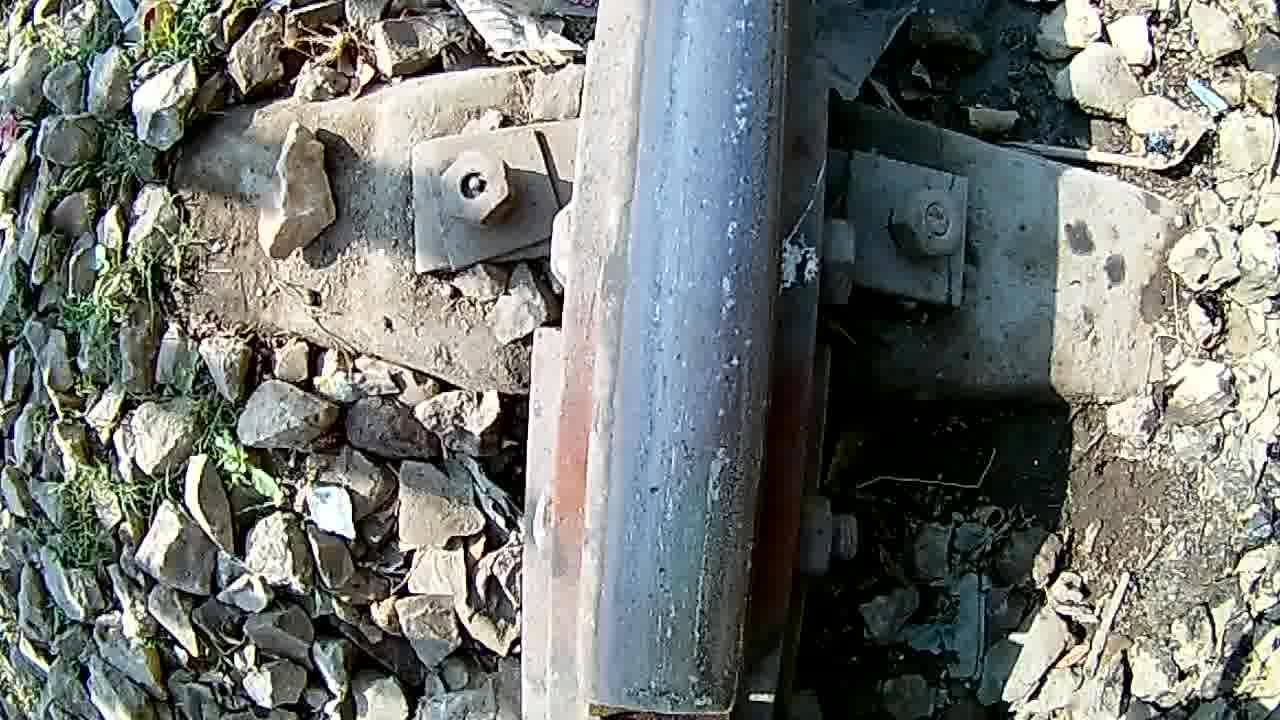crack: (607, 3, 790, 668)
